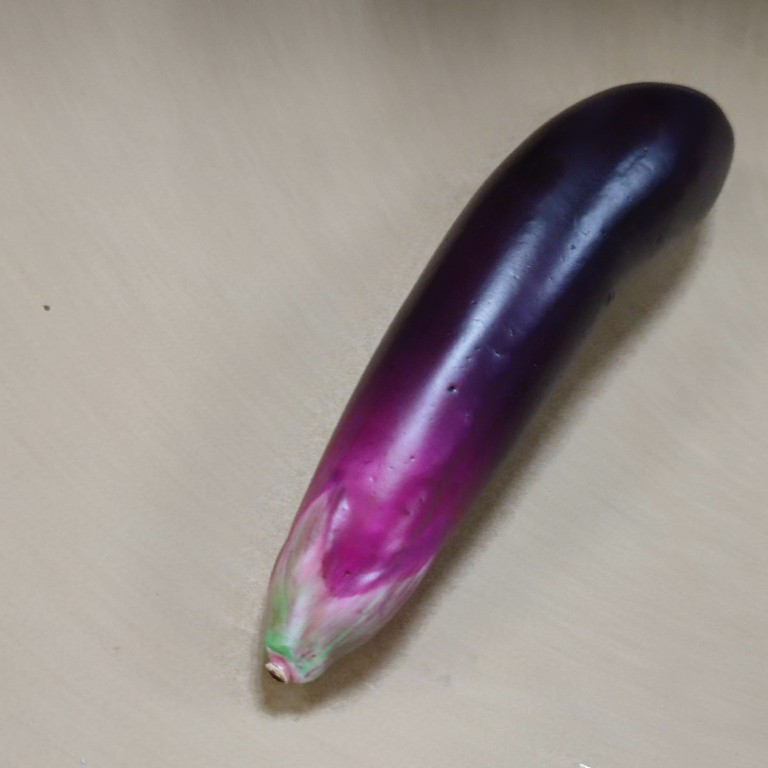fruit_eggplant: (259, 78, 738, 687)
